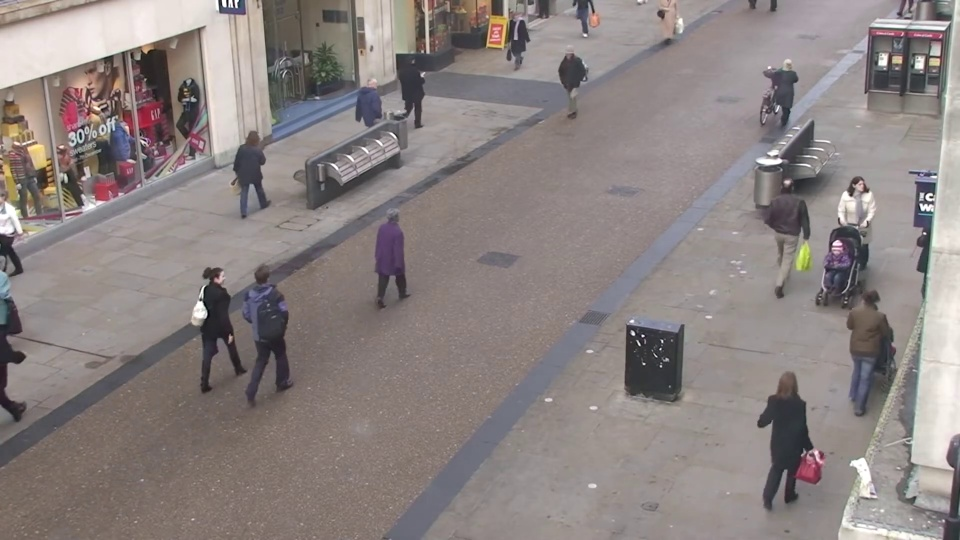pedestrian: (764, 354, 822, 513), (841, 277, 897, 417), (206, 253, 257, 383), (249, 250, 298, 380), (805, 235, 854, 363), (827, 172, 872, 284), (383, 196, 424, 313), (769, 165, 809, 275), (244, 124, 281, 221), (363, 73, 393, 157), (771, 52, 802, 132), (401, 47, 429, 124), (554, 48, 580, 125), (504, 9, 527, 75)
